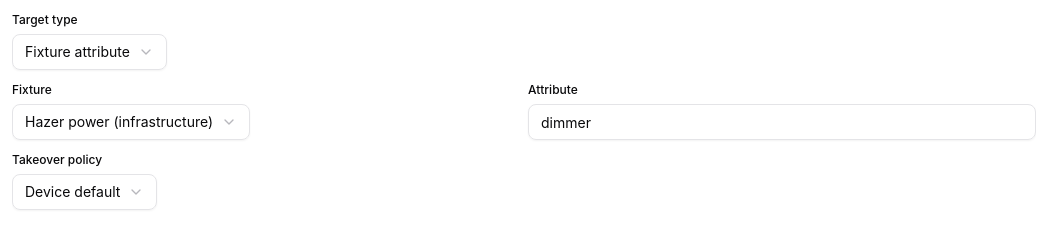
Scenario: BindingTargetPicker infrastructure fixtures › keeps an infrastructure fixture a binding already names, and offers no other
The image size is (1048, 227).
Expected: the text "Hazer power (infrastructure)" is shown, [25,112,213,132]
// The second combobox is the Fixture field (the first is the target kind).
Click the dropdown labelled "Hazer power (infrastructure)".
click(131, 122)  # box [12,104,250,140]
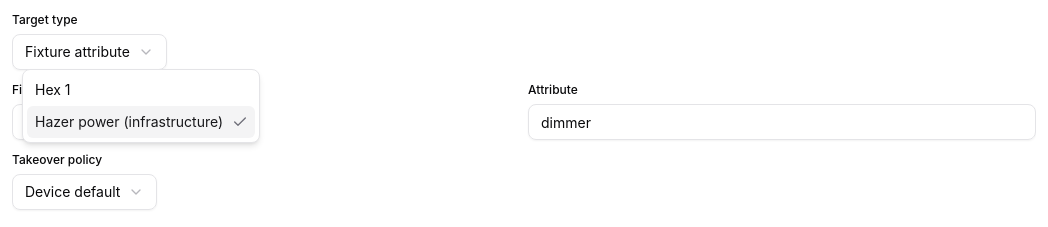
Expected: the text "Hazer power (infrastructure)" below "Target type" is shown, [25,113,213,130]
Now the text "Hex 1" is shown, box [35,80,70,100]
